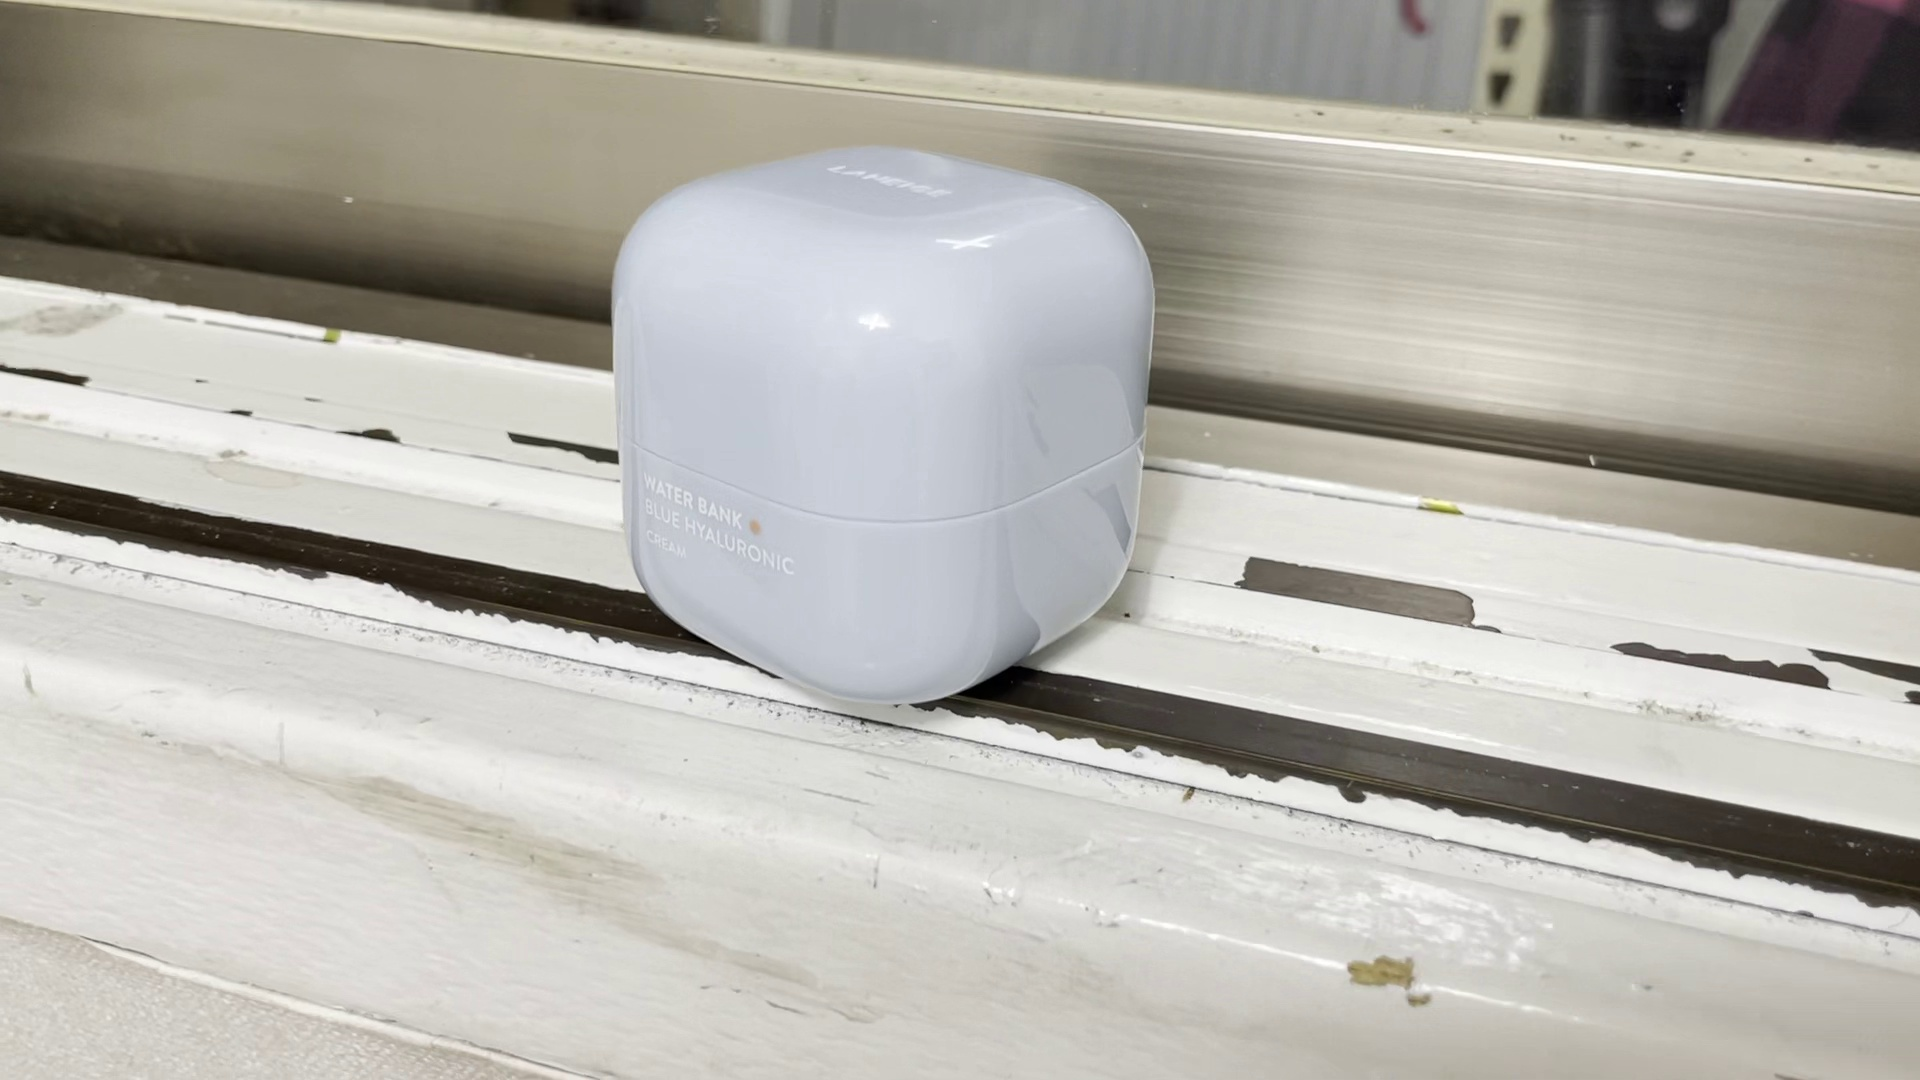cream: (611, 138, 1153, 702)
